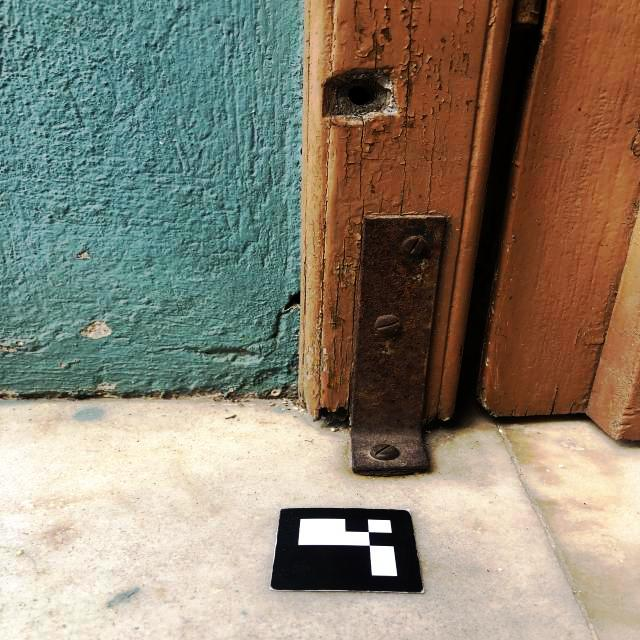Corrosion: (350, 215, 447, 476)
